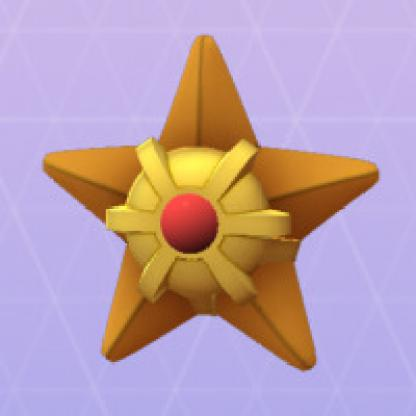Staryu: (36, 31, 391, 386)
